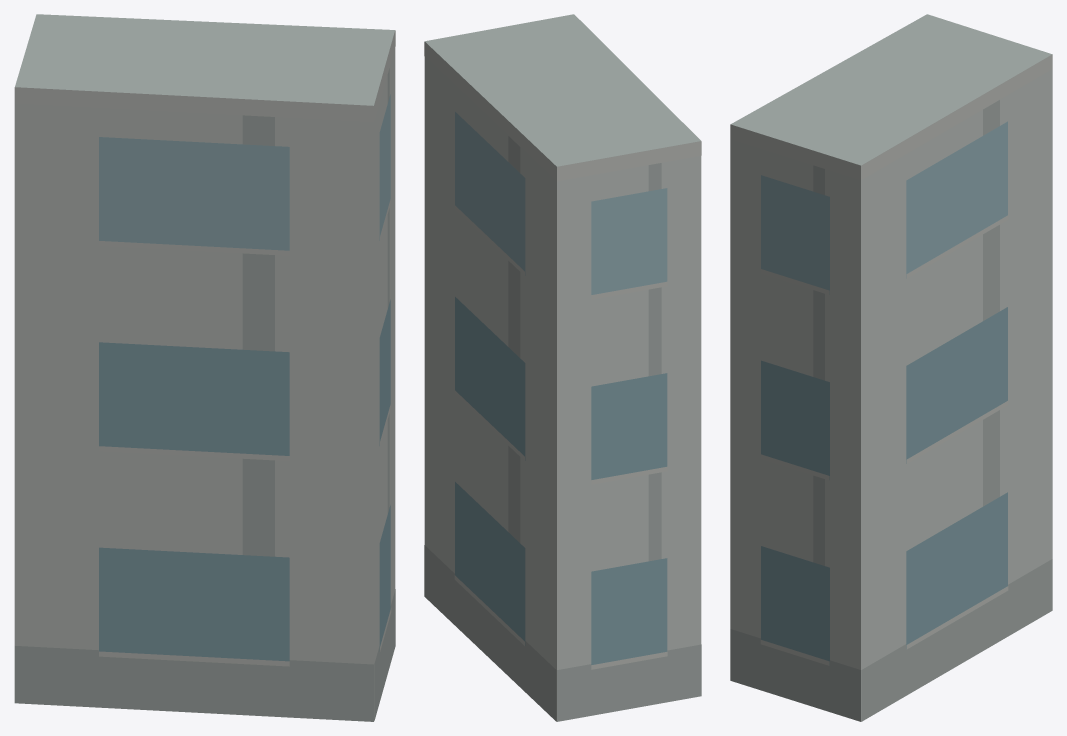
File: survey-upis-32738438.glb
3 renders of one model, left to right at view 1: azimuth 30°, elevation 25°; view 2: azimuth 150°, elevation 25°; view 3: azimuth 270°, elevation 25°, orthographic. The views are drawn at different scales.
Visible parts, largest first — view 1: survey-upis-32738438.tmp; view 2: survey-upis-32738438.tmp; view 3: survey-upis-32738438.tmp.
Boxes of the visible parts, x1=… form: survey-upis-32738438.tmp: x1=14, y1=14, x2=395, y2=721; survey-upis-32738438.tmp: x1=424, y1=14, x2=701, y2=721; survey-upis-32738438.tmp: x1=730, y1=14, x2=1052, y2=721.
Bounding box in the file's own units: 5.35 × 9.15 × 4.81.
